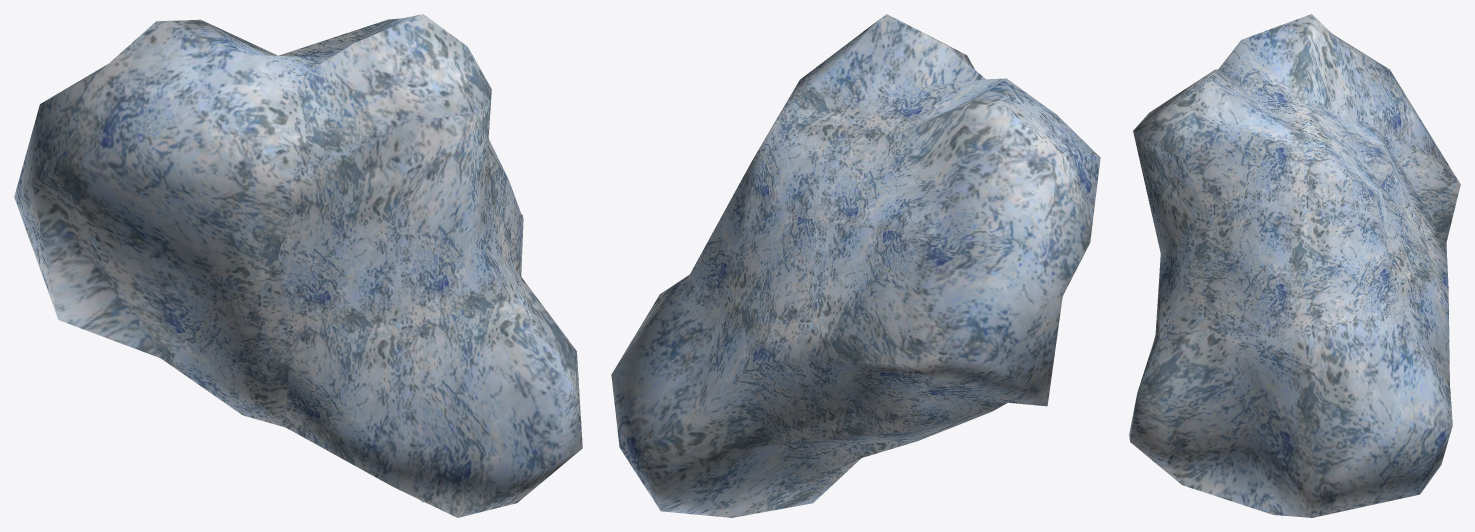
File: asteroid_ice_large_s02_l2.fbx
3 renders of one model, left to right at view 1: azimuth 30°, elevation 25°; view 2: azimuth 150°, elevation 25°; view 3: azimuth 270°, elevation 25°, orthographic. The views are drawn at different scales.
Parts seen in each view (by area): view 1: mesh_node; view 2: mesh_node; view 3: mesh_node.
Part boxes in pixels (x1,y1,x2,y2): mesh_node: [14, 14, 582, 517]; mesh_node: [611, 14, 1100, 517]; mesh_node: [1129, 14, 1460, 517].
Size of the model in its own units: 111 by 116 by 87.01.
